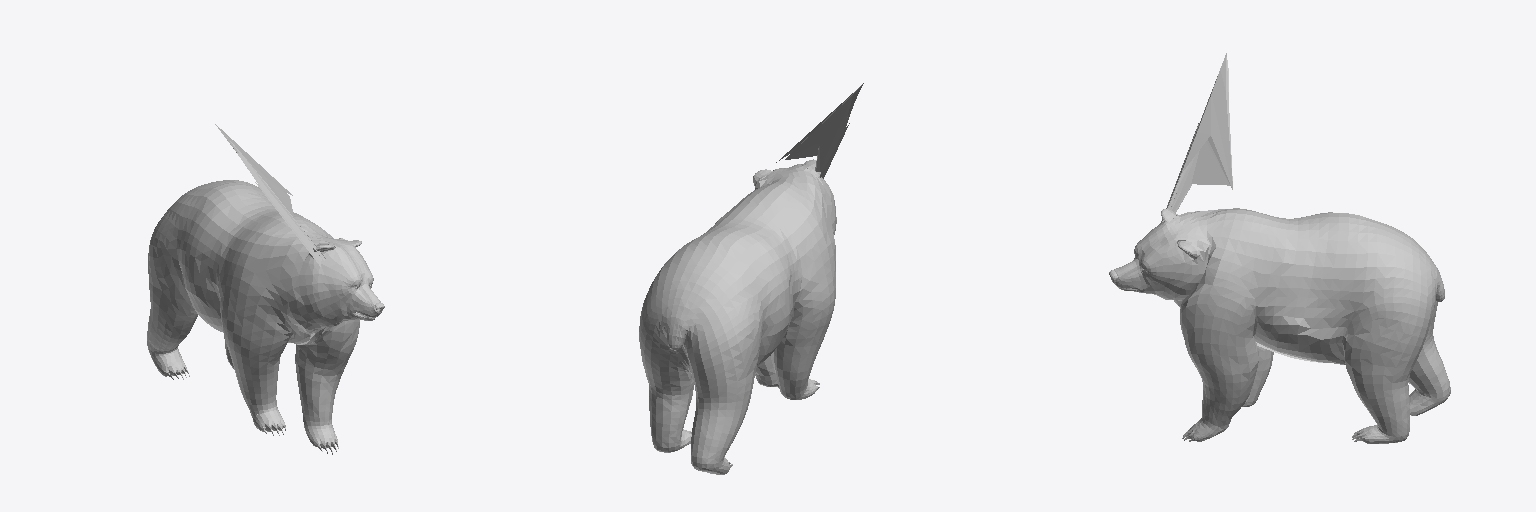
Rendered from Bear0064.obj.
3 views of the same model, side by side, from view 1: azimuth 30°, elevation 25°; view 2: azimuth 150°, elevation 25°; view 3: azimuth 270°, elevation 25° (orthographic).
Visible parts, largest first — view 1: Object_237; view 2: Object_237; view 3: Object_237.
Part boxes in pixels (x1,y1,x2,y2): Object_237: (147,124,384,454); Object_237: (639,83,863,474); Object_237: (1109,53,1450,443).
Bounding box in the file's own units: 2.27 × 5.34 × 4.87.